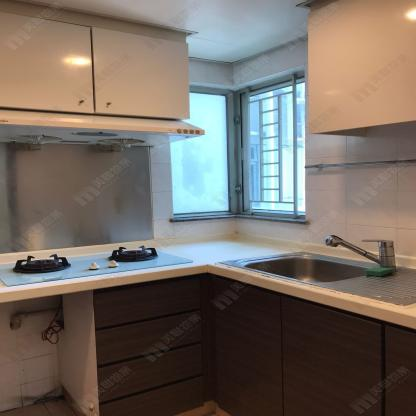Cupboard: (98, 273, 416, 416), (4, 7, 190, 122)
Exhaust Hood: (0, 107, 207, 152)
Faucet: (320, 231, 400, 269)
Sink: (224, 248, 401, 289)
Stove: (2, 246, 195, 284)
